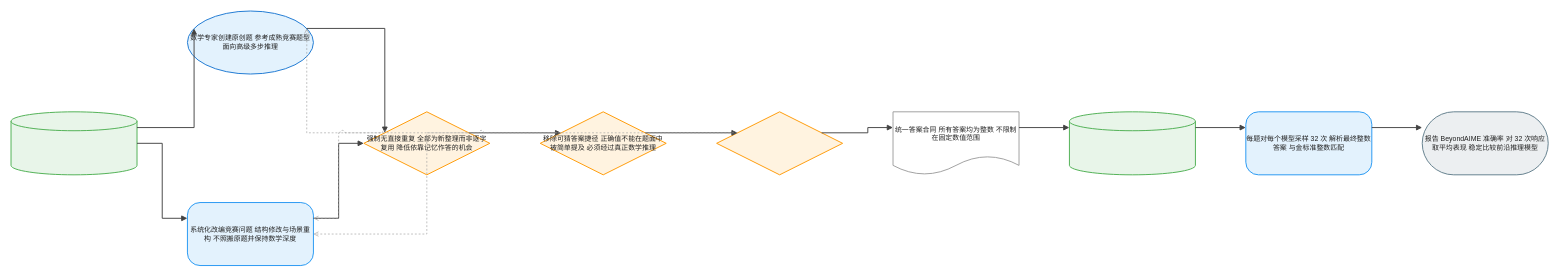
The diagram is 1560 pixels wide and 277 high, and some of its shapes have lost their labels. Here are the shapes that lost their labels. From the top down, the centre of each, then its label:
the point at 73,143: 识别 AIME 评测缺口 每年仅发布 30 道题 方差高且难以区分前沿模型
the point at 779,143: 保留前沿难度 等于或难于最难 AIME 题 过滤并整理最终挑战集
the point at 1132,143: 发布 BeyondAIME 100 道专家整理题 抗污染的高级数学评测
